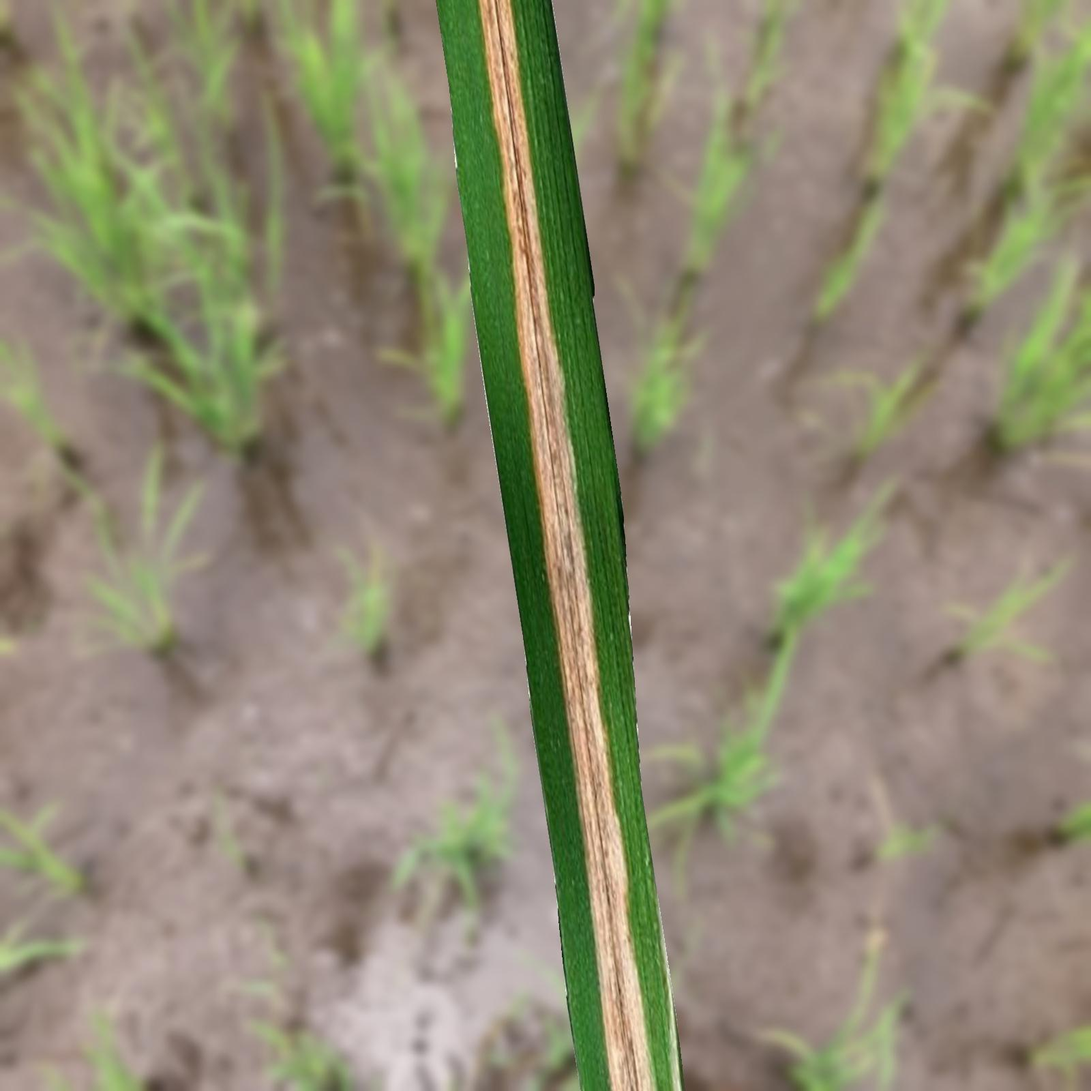BLB: (478, 0, 657, 1090)
LEAF: (436, 0, 685, 1090)
